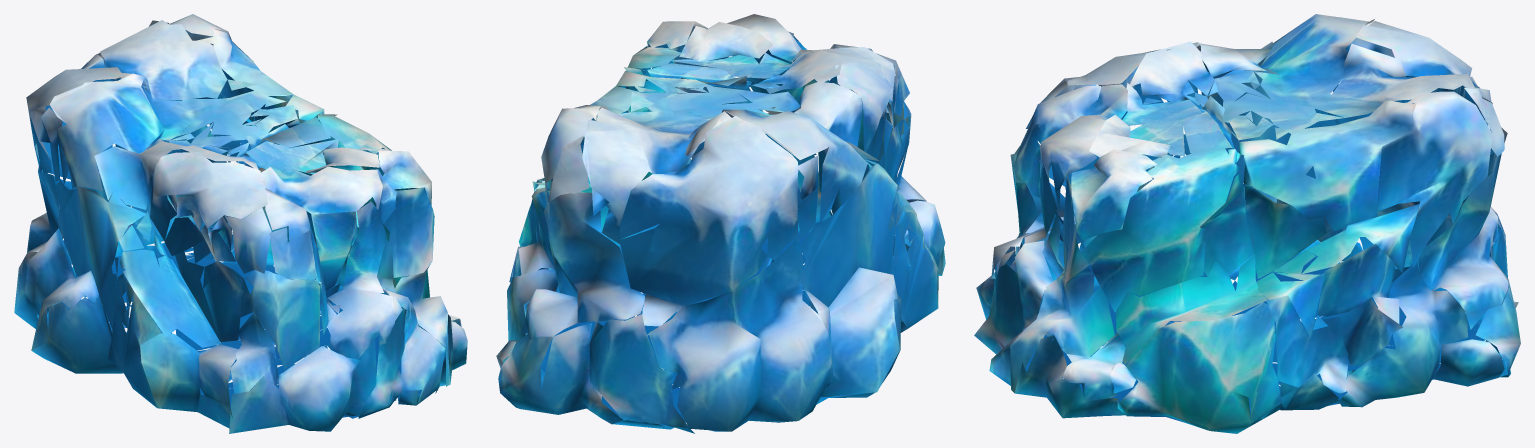
Rendered from bloco.glb.
3 renders of one model, left to right at view 1: azimuth 30°, elevation 25°; view 2: azimuth 150°, elevation 25°; view 3: azimuth 270°, elevation 25°, orthographic. The views are drawn at different scales.
Parts seen in each view (by area): view 1: bloco; view 2: bloco; view 3: bloco.
Part boxes in pixels (x1,y1,x2,y2): bloco: (14,14,467,433); bloco: (496,14,945,433); bloco: (974,14,1520,433).
Bounding box in the file's own units: 3.14 × 2.1 × 3.75.
Materials: 1 (1 with a texture image).
